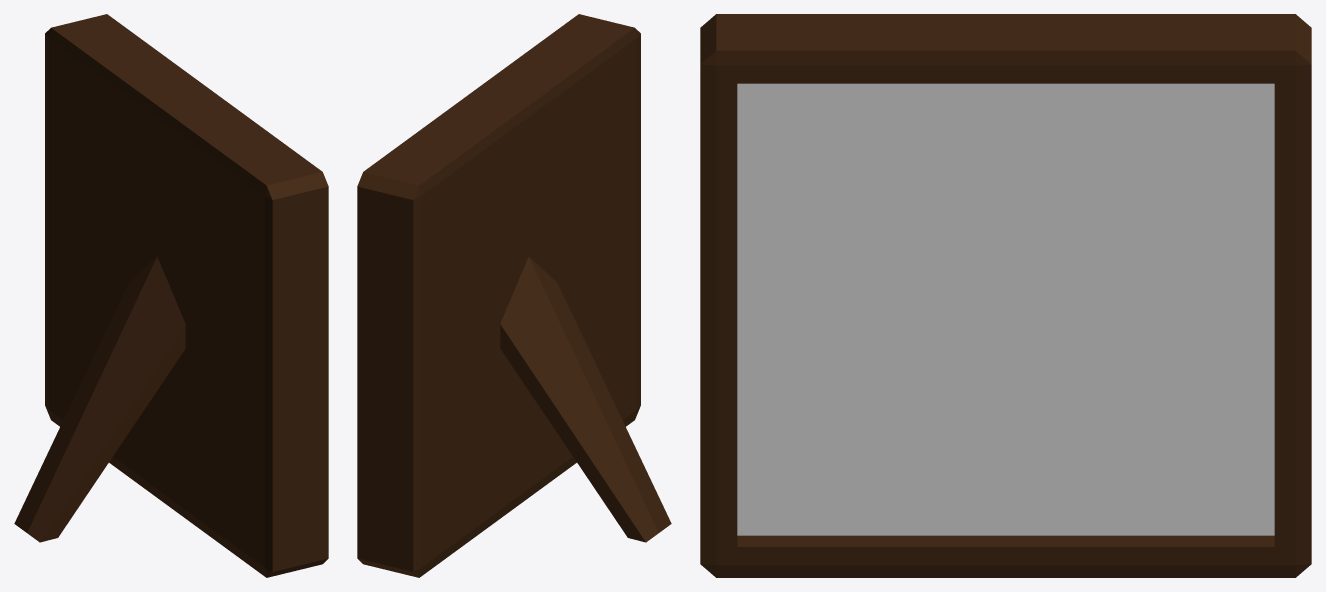
File: MarcoFotos1.fbx
The picture shows the model from 3 angles, left to right: view 1: azimuth 30°, elevation 25°; view 2: azimuth 150°, elevation 25°; view 3: azimuth 270°, elevation 25°; orthographic projection. The views are drawn at different scales.
Visible parts, largest first — view 1: Marco Fotos; view 2: Marco Fotos; view 3: Marco Fotos.
Part boxes in pixels (x1,y1,x2,y2): Marco Fotos: [14, 14, 328, 577]; Marco Fotos: [357, 14, 671, 577]; Marco Fotos: [700, 14, 1311, 577].
Size of the model in its own units: 39.58 by 78.76 by 82.36.
